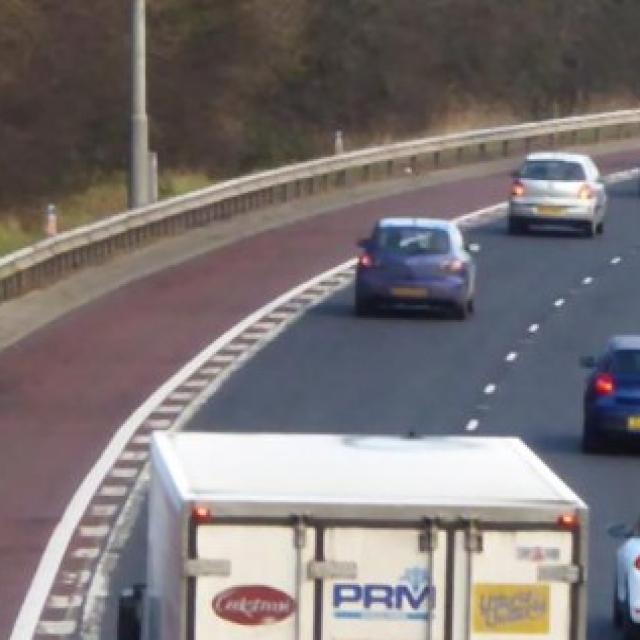car: (353, 216, 478, 318), (507, 146, 610, 237), (581, 331, 640, 452)
van: (113, 428, 592, 640)
